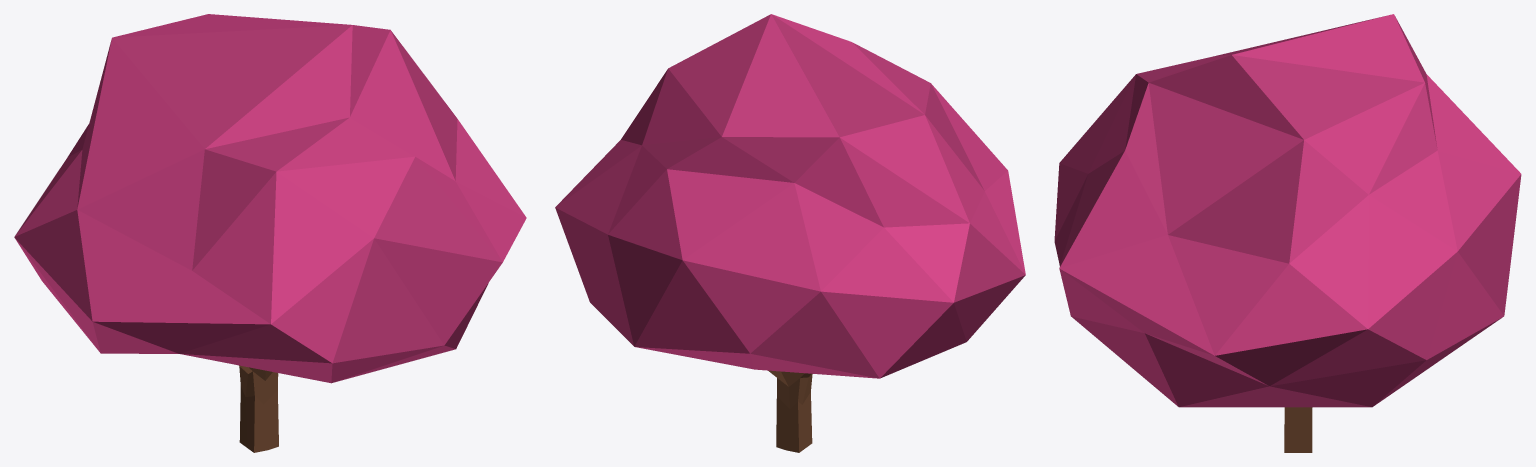
The model's file is Tree_8_Pink.fbx.
The picture shows the model from 3 angles, left to right: view 1: azimuth 30°, elevation 25°; view 2: azimuth 150°, elevation 25°; view 3: azimuth 270°, elevation 25°; orthographic projection. The views are drawn at different scales.
Parts seen in each view (by area): view 1: Tree_8_Pink_Part_1, Tree_8_Pink_Part_2; view 2: Tree_8_Pink_Part_1, Tree_8_Pink_Part_2; view 3: Tree_8_Pink_Part_1, Tree_8_Pink_Part_2.
Boxes of the visible parts, x1,y1,x2,y2 form: Tree_8_Pink_Part_1: (14, 14, 526, 383); Tree_8_Pink_Part_2: (239, 365, 278, 452); Tree_8_Pink_Part_1: (555, 14, 1025, 378); Tree_8_Pink_Part_2: (768, 370, 812, 452); Tree_8_Pink_Part_1: (1054, 14, 1521, 407); Tree_8_Pink_Part_2: (1284, 407, 1312, 452).
Size of the model in its own units: 804 by 762 by 766.
